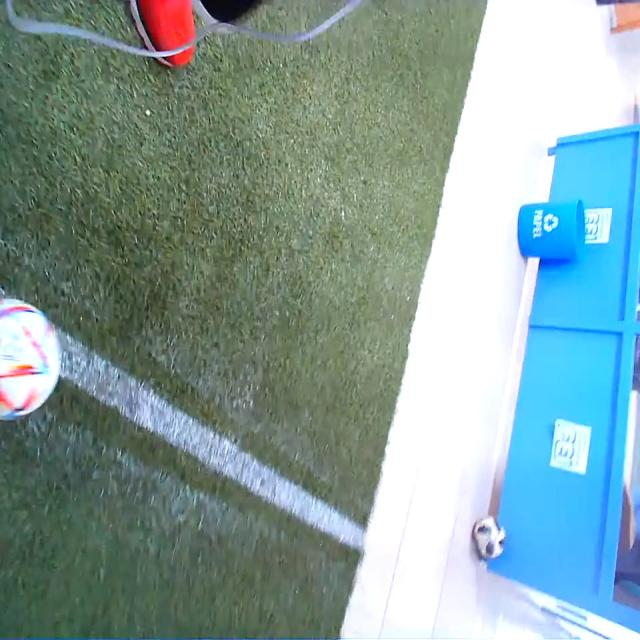ball: (0, 296, 62, 426)
